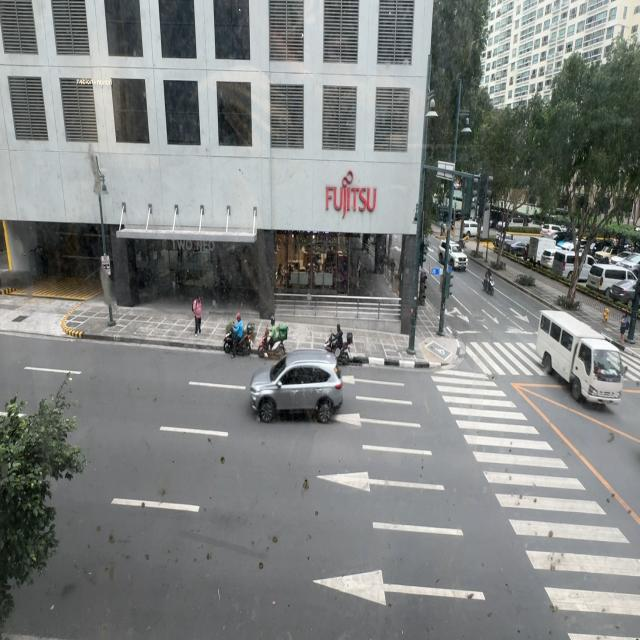pedestrain: (192, 295, 201, 336)
waiting: (620, 313, 629, 344)
